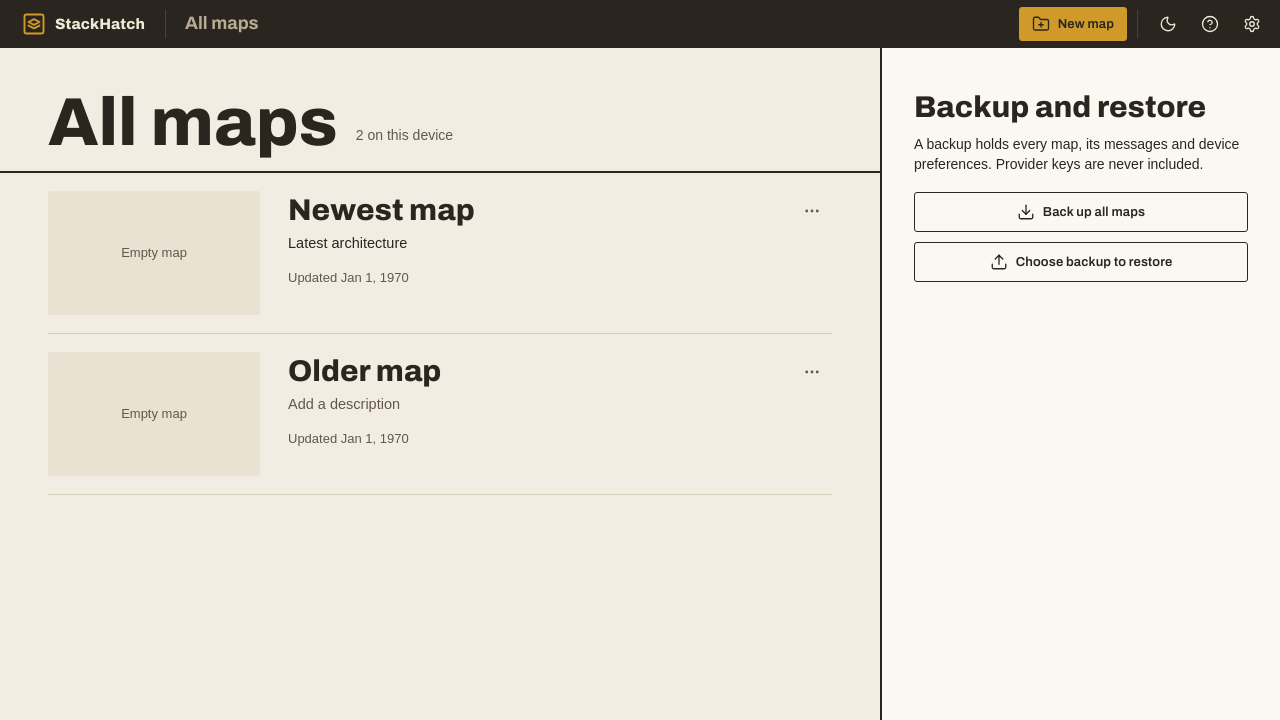
it: AllMapsPage › deletes with a vault revision and keeps failures retryable
The image size is (1280, 720).
Click the button named "More actions for Newest map". click: {"x": 812, "y": 211}
box: [792, 191, 832, 231]
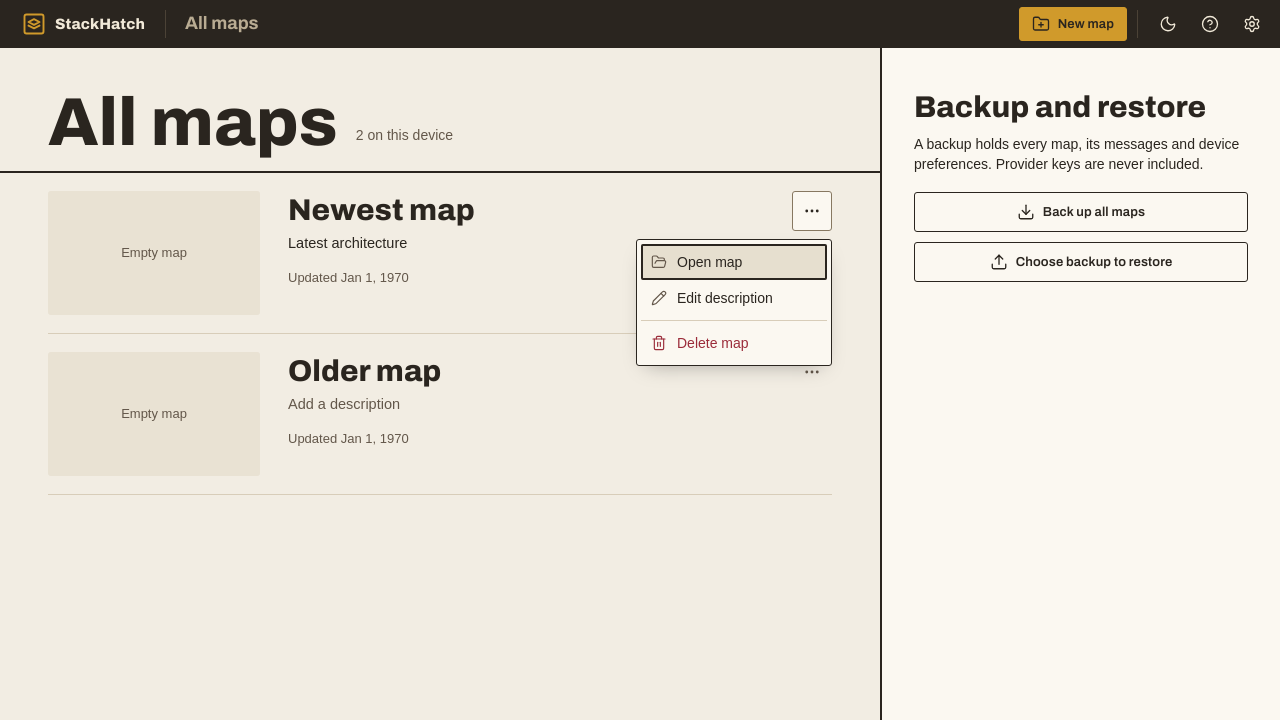
Click the menu item with aria-label "Delete Newest map". click: {"x": 734, "y": 343}
box: [641, 325, 827, 361]
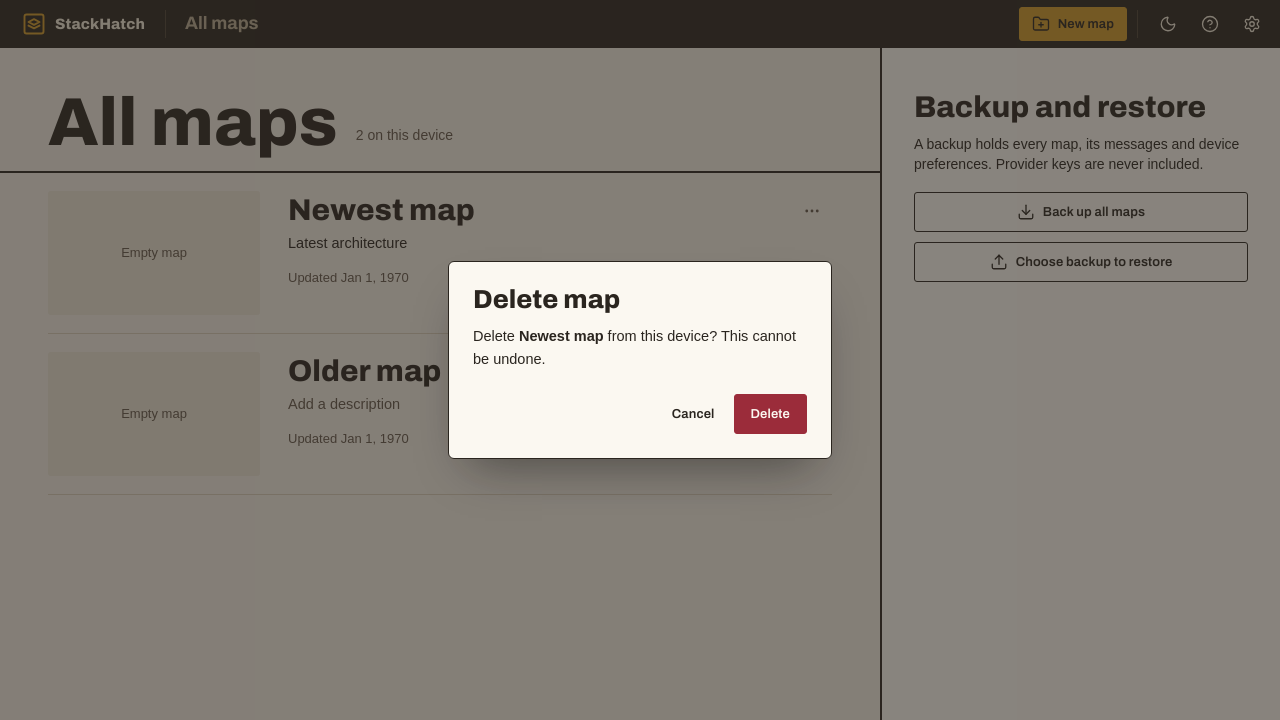
Click the button "Delete". click: {"x": 770, "y": 414}
box: [734, 394, 807, 434]
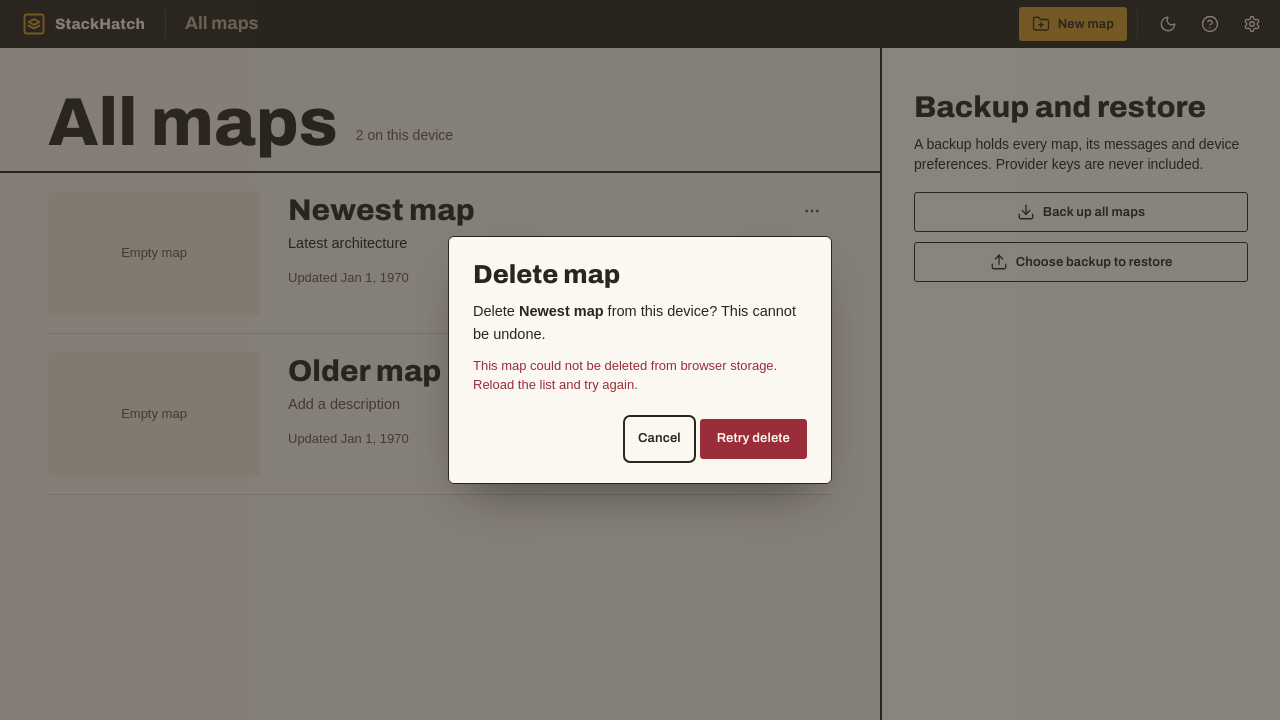
Result: the message shows "could not be deleted" at [473, 358, 777, 392]
Click the button "Retry delete". click: {"x": 753, "y": 439}
box: [700, 419, 807, 459]
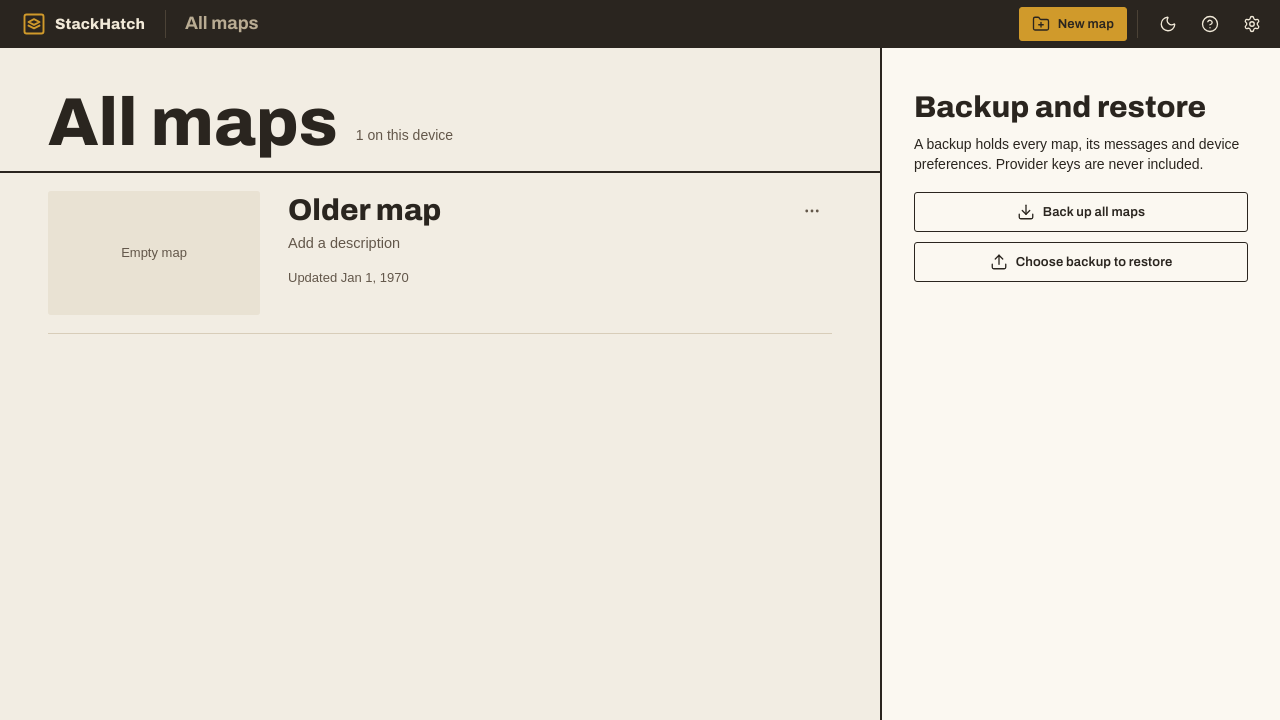
Result: the button "Newest map" is gone
